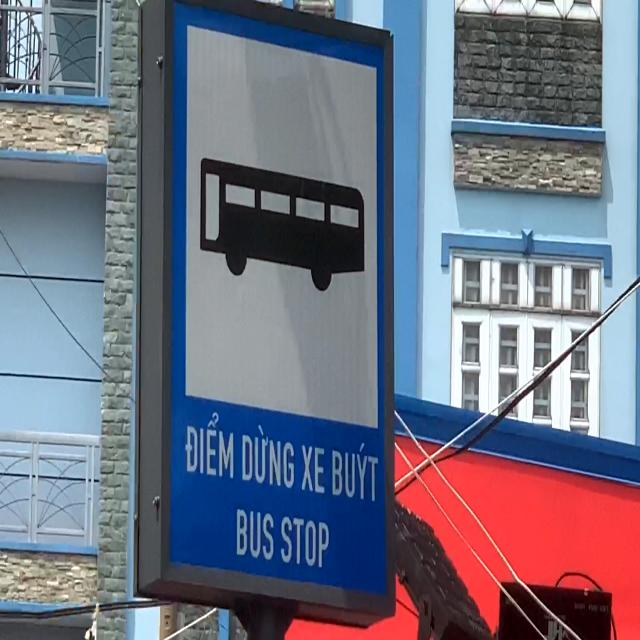R.434: (165, 0, 394, 609)
